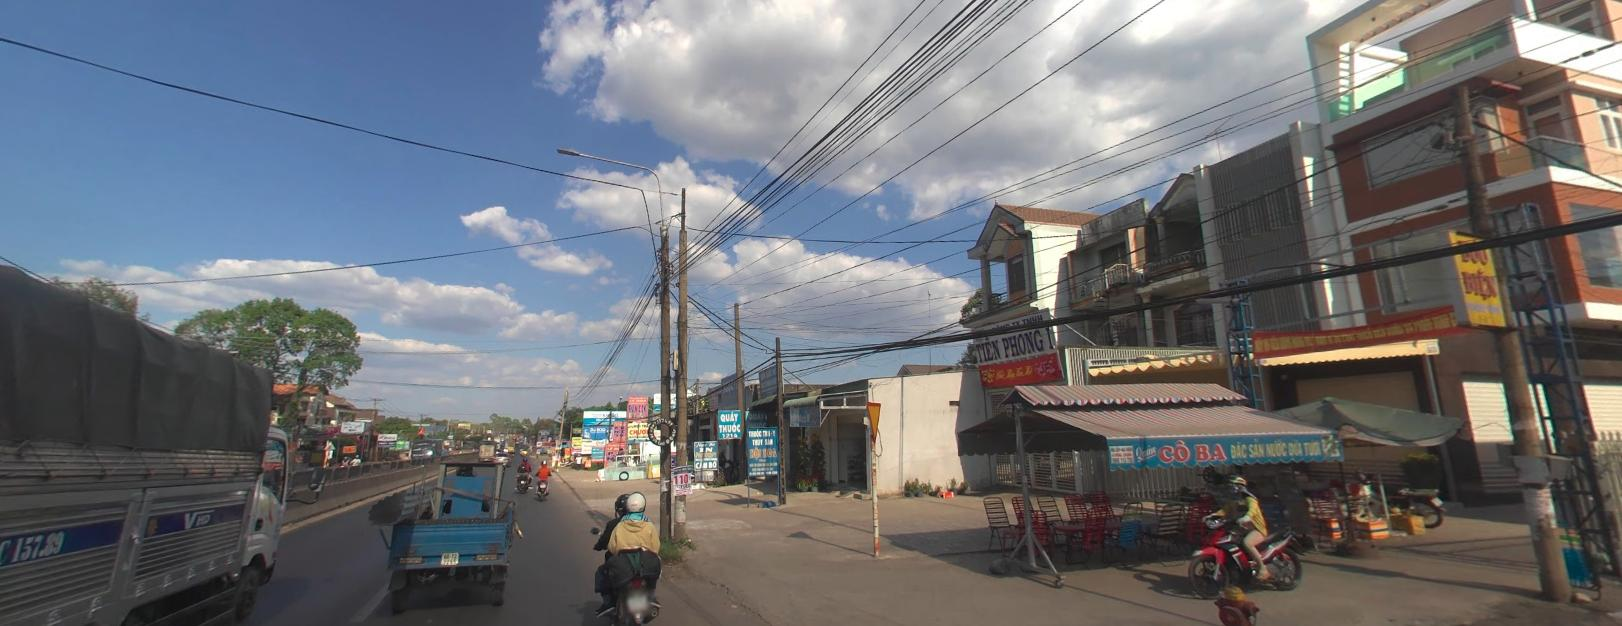Nguy hiem: (865, 399, 882, 440), (867, 401, 881, 438)
